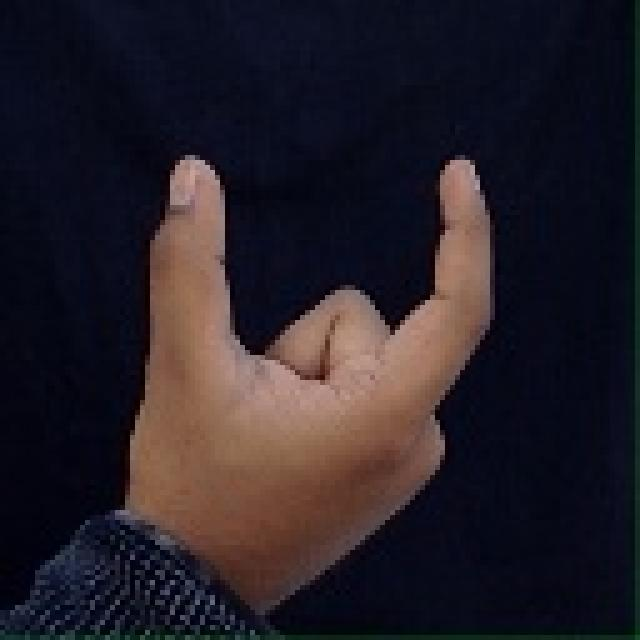Alphabet-U: (106, 131, 533, 627)
